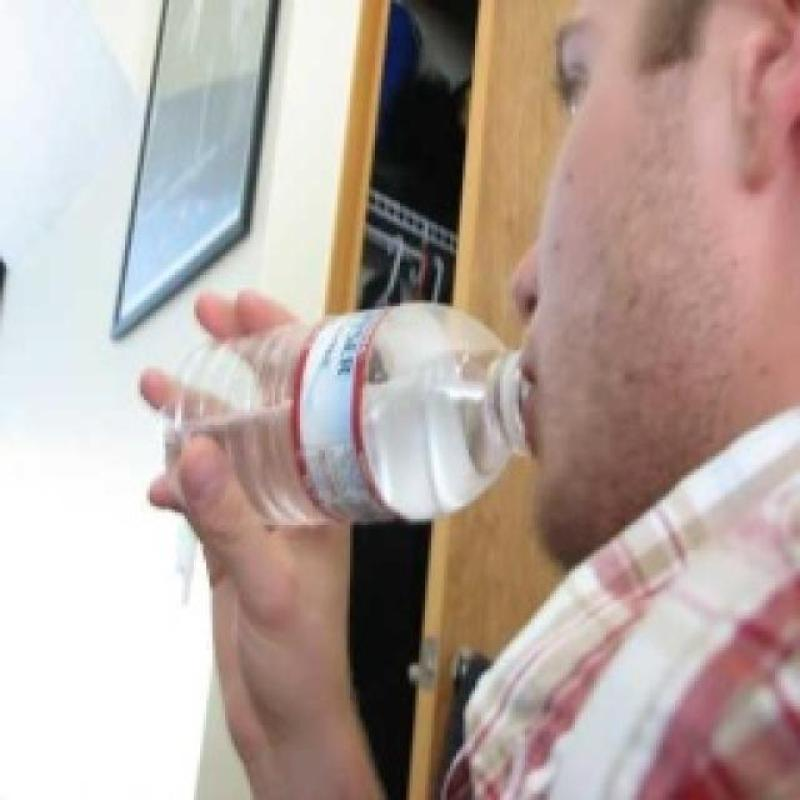botella: (158, 301, 527, 530)
